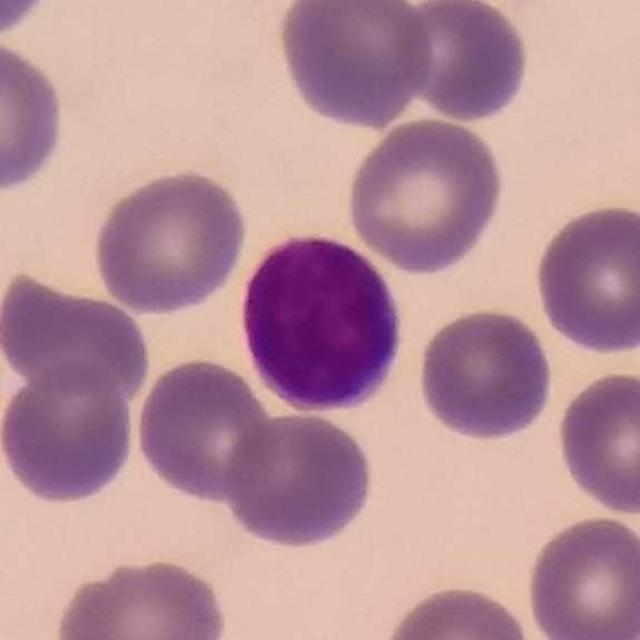Lymphocyte: (232, 226, 410, 418)
RBC: (342, 115, 508, 277), (89, 165, 250, 316), (222, 408, 378, 551), (132, 354, 280, 504), (272, 0, 437, 131), (0, 268, 155, 404), (0, 357, 139, 508), (413, 304, 556, 443), (393, 0, 533, 125), (530, 200, 640, 358), (50, 553, 232, 640), (522, 512, 640, 640), (552, 366, 640, 518), (0, 37, 70, 197), (380, 581, 538, 640), (0, 0, 60, 43)
